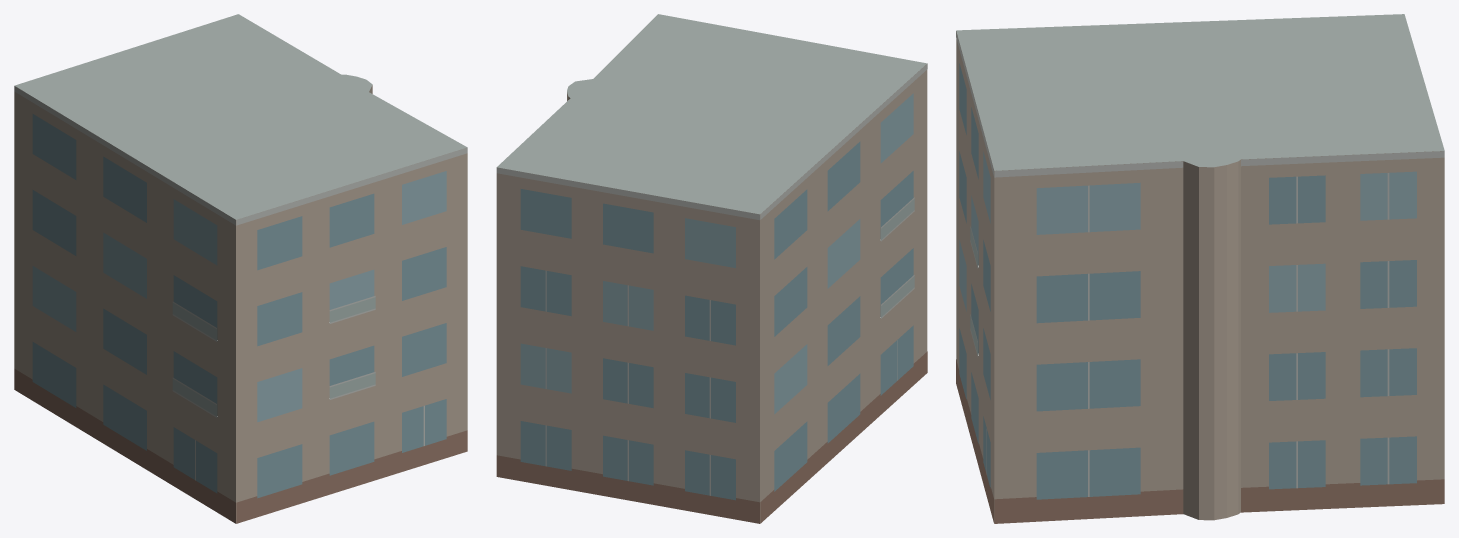
The model's file is survey-upis-32778002.glb.
The picture shows the model from 3 angles, left to right: view 1: azimuth 30°, elevation 25°; view 2: azimuth 150°, elevation 25°; view 3: azimuth 270°, elevation 25°; orthographic projection. The views are drawn at different scales.
Visible parts, largest first — view 1: survey-upis-32778002.tmp; view 2: survey-upis-32778002.tmp; view 3: survey-upis-32778002.tmp.
Boxes of the visible parts, <box> form: survey-upis-32778002.tmp: <box>14,14,467,523</box>; survey-upis-32778002.tmp: <box>496,14,927,523</box>; survey-upis-32778002.tmp: <box>956,14,1444,523</box>.
Bounding box in the file's own units: 12.21 × 12.8 × 16.07.
